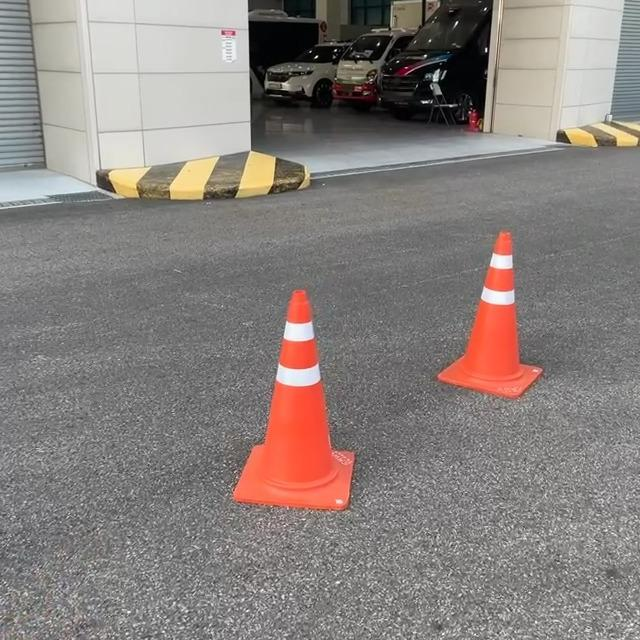fallen_object: (410, 227, 592, 438), (209, 275, 345, 515)
